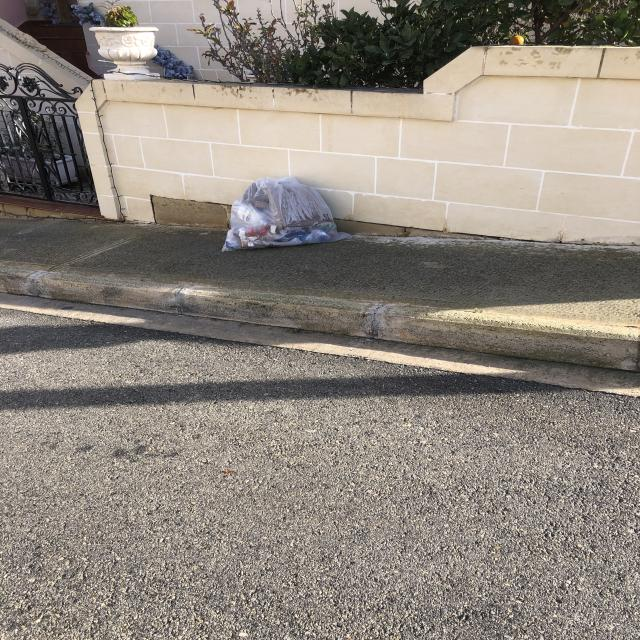Recycled Waste -Grey or Green Bag-: (223, 177, 354, 253)
